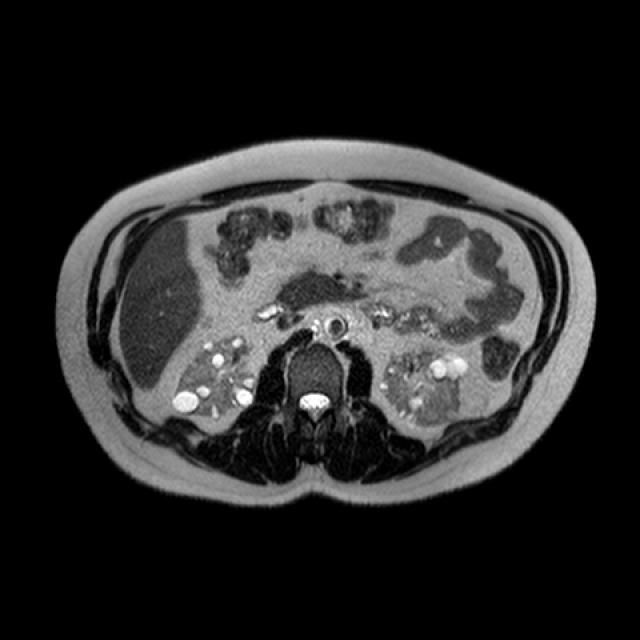sag: (172, 332, 258, 422)
sol: (378, 345, 473, 430)
